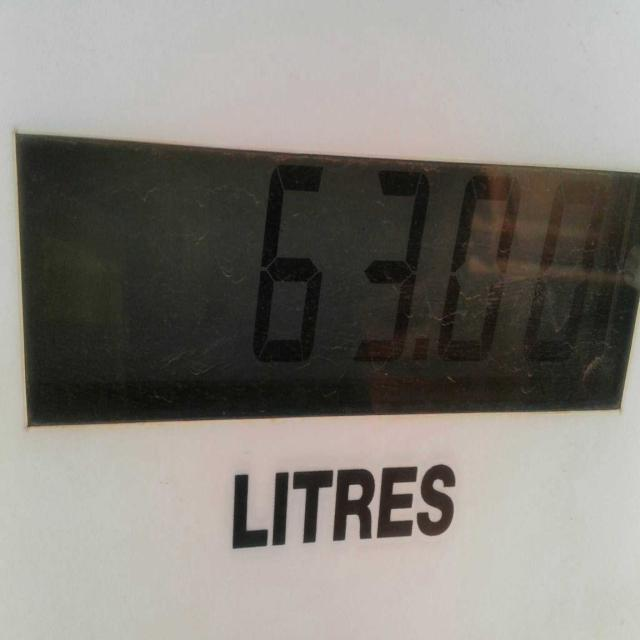.: (408, 322, 440, 391)
0: (437, 146, 534, 398), (522, 152, 595, 396)
3: (355, 152, 431, 388)
6: (236, 148, 346, 398)
